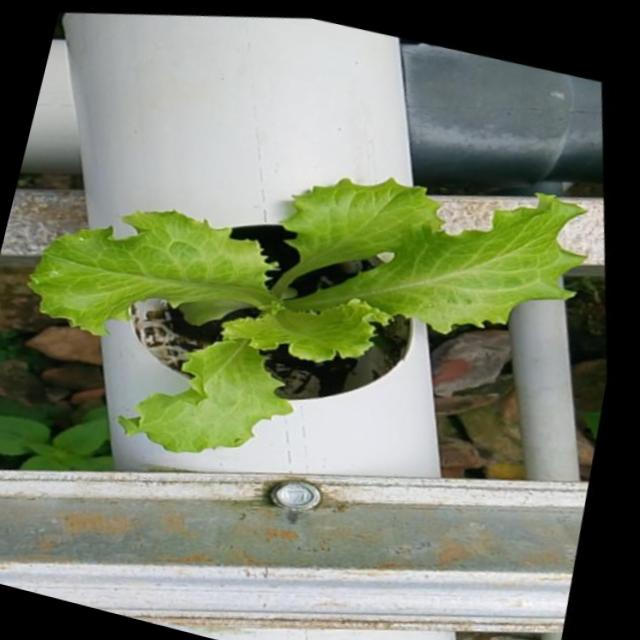Baby: (20, 174, 580, 447)
